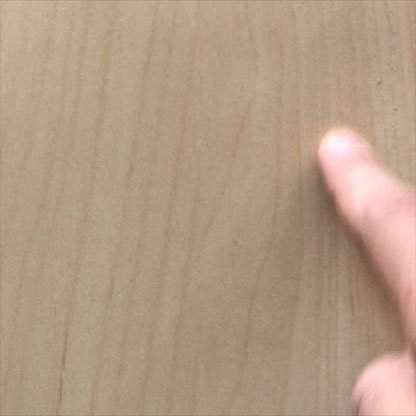fingertip: (313, 119, 375, 174)
